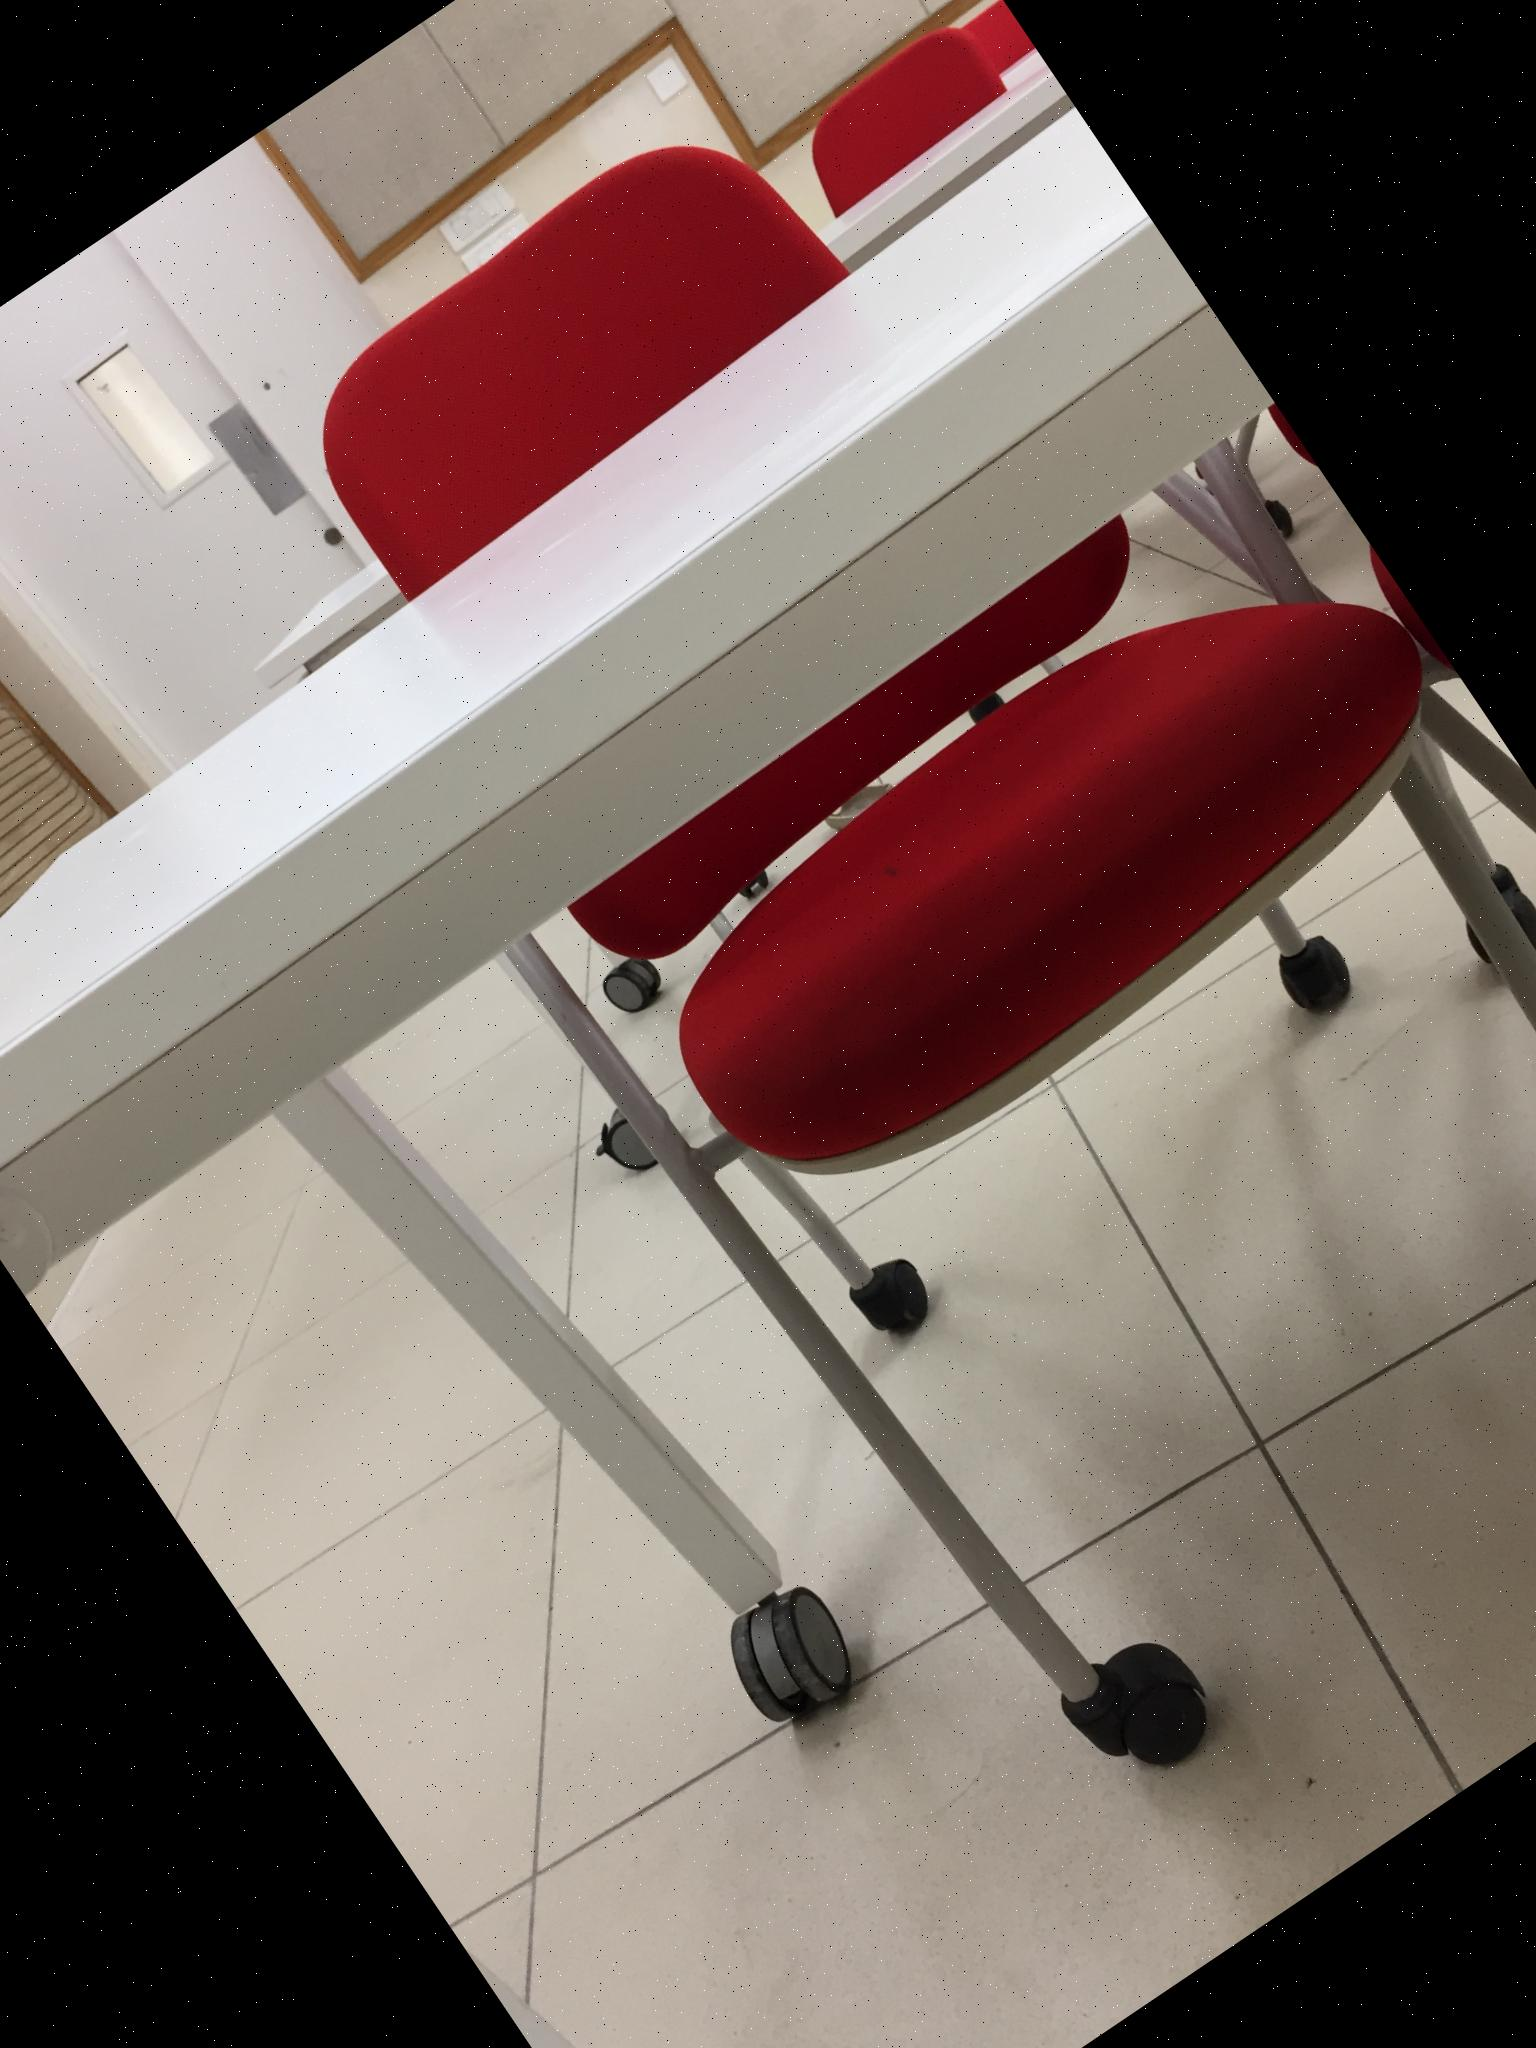chair: (182, 0, 1536, 1843), (750, 0, 1071, 256)
